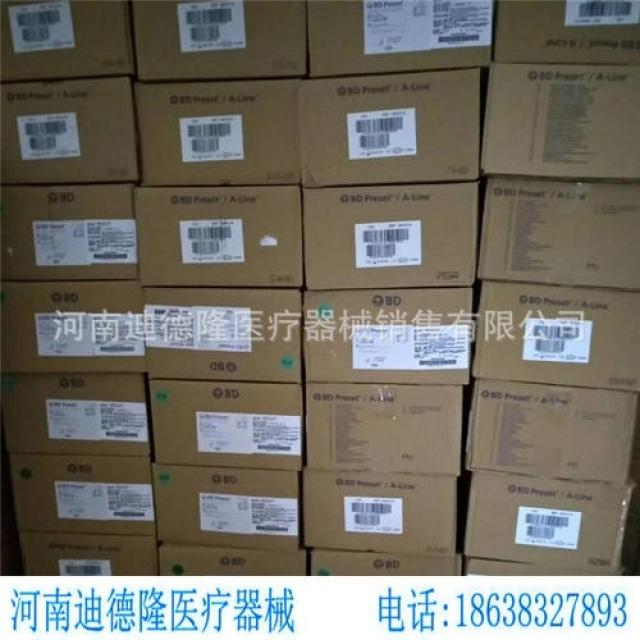box: (301, 68, 481, 187), (302, 182, 477, 291), (481, 64, 640, 180), (472, 283, 640, 392), (466, 380, 640, 485), (465, 472, 639, 575), (479, 178, 640, 288), (134, 81, 301, 187), (134, 186, 302, 285), (303, 288, 472, 384), (0, 76, 141, 184), (146, 289, 302, 384), (306, 0, 494, 78), (306, 384, 463, 475), (133, 0, 306, 82), (148, 379, 302, 471), (0, 279, 146, 374), (302, 468, 457, 556), (0, 183, 137, 282), (1, 372, 150, 457), (151, 465, 301, 549), (10, 456, 156, 534), (0, 0, 136, 83), (494, 0, 640, 65), (19, 531, 159, 576), (308, 548, 461, 577), (157, 547, 308, 576), (466, 558, 622, 576)
